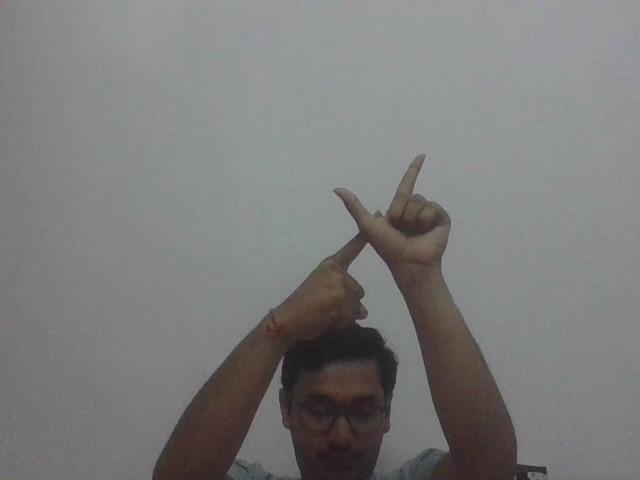Y: (318, 151, 453, 336)
